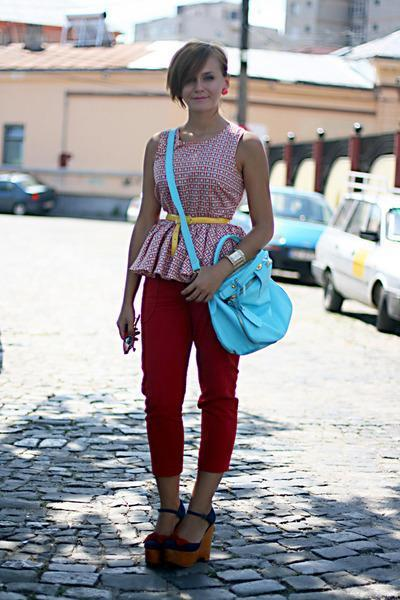bag: (154, 132, 291, 357)
pants: (132, 252, 238, 491)
shirt: (132, 108, 268, 280)
shoe: (143, 519, 227, 568)
